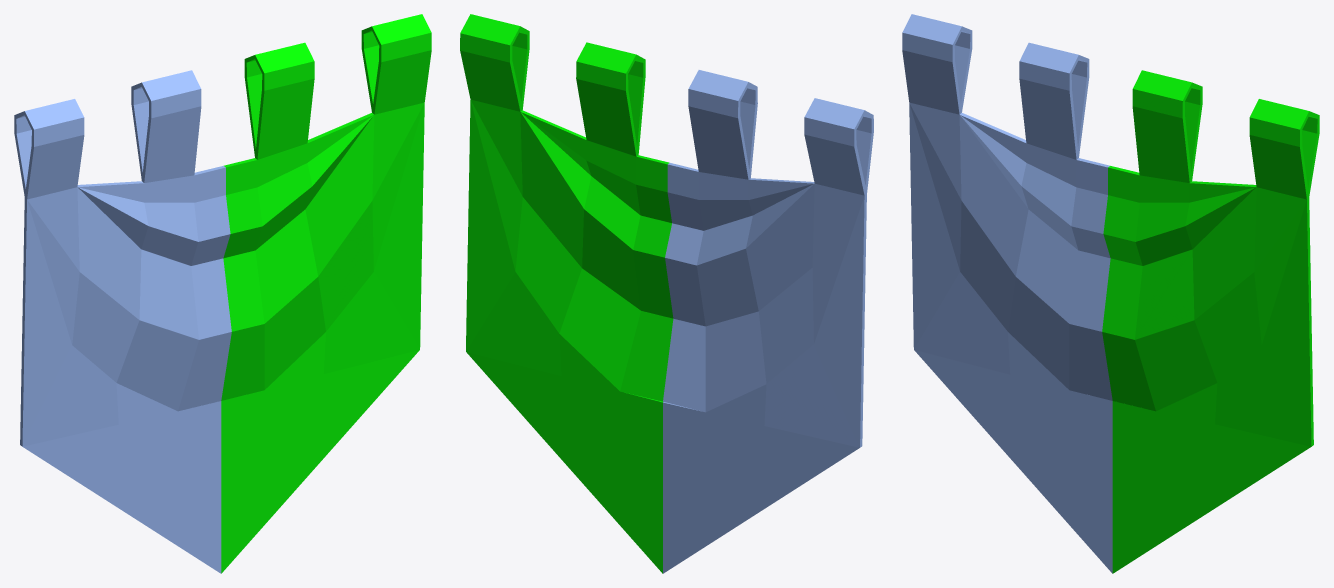
File: SM_Flag_Banner_Short_A_Fantasy.fbx
3 views of the same model, side by side, from view 1: azimuth 30°, elevation 25°; view 2: azimuth 150°, elevation 25°; view 3: azimuth 330°, elevation 25° (orthographic).
Visible parts, largest first — view 1: flag-banner-short-a-fantasy; view 2: flag-banner-short-a-fantasy; view 3: flag-banner-short-a-fantasy.
Part boxes in pixels (box(x1,y1,x2,y2)): flag-banner-short-a-fantasy: box(14, 14, 431, 573); flag-banner-short-a-fantasy: box(460, 14, 873, 573); flag-banner-short-a-fantasy: box(902, 14, 1319, 573).
Size of the model in its own units: 0.9567 by 1.18 by 0.0831.
